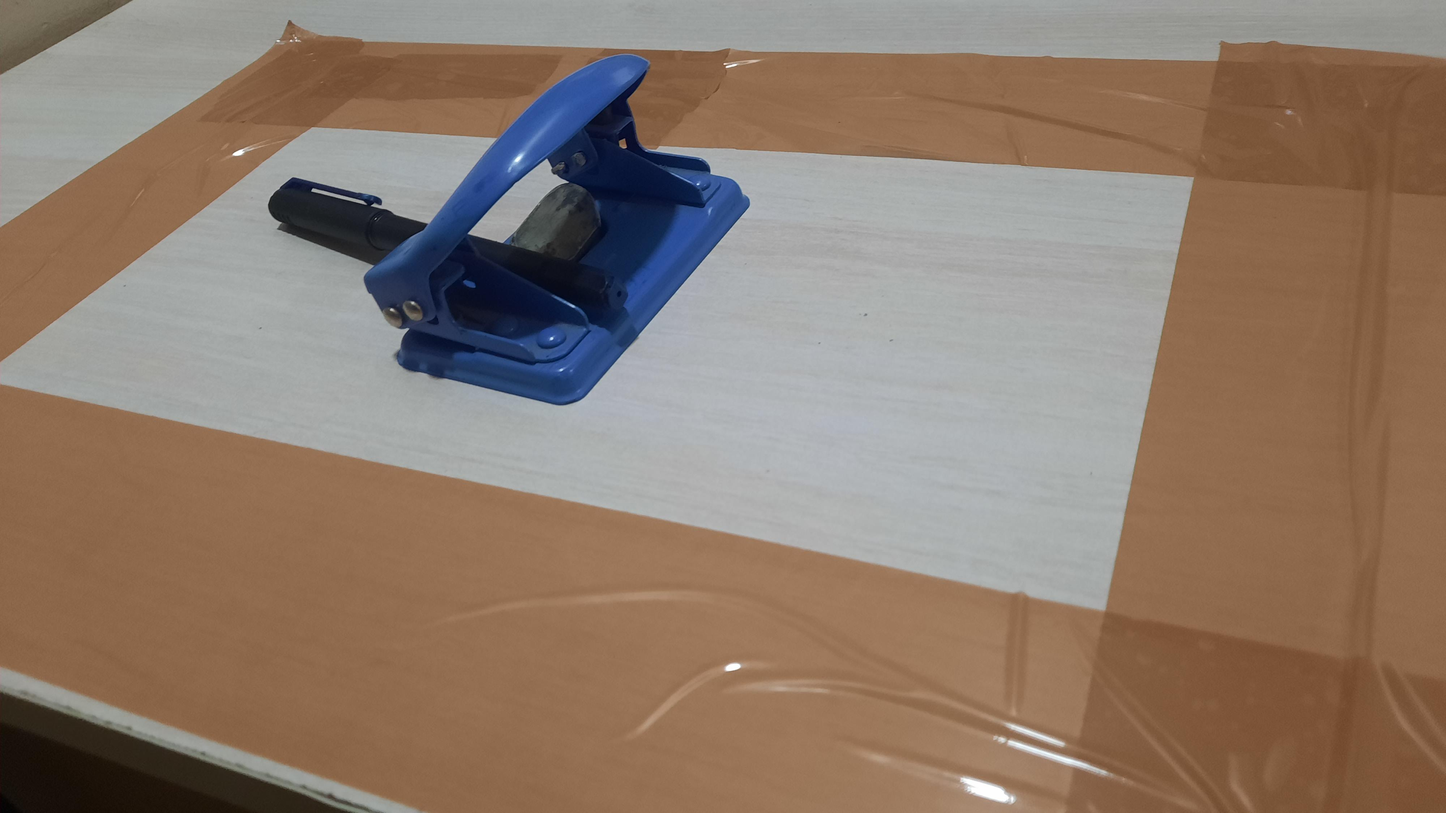Eraser: (508, 183, 604, 263)
Pen: (268, 176, 627, 310)
Punch: (364, 53, 750, 404)
